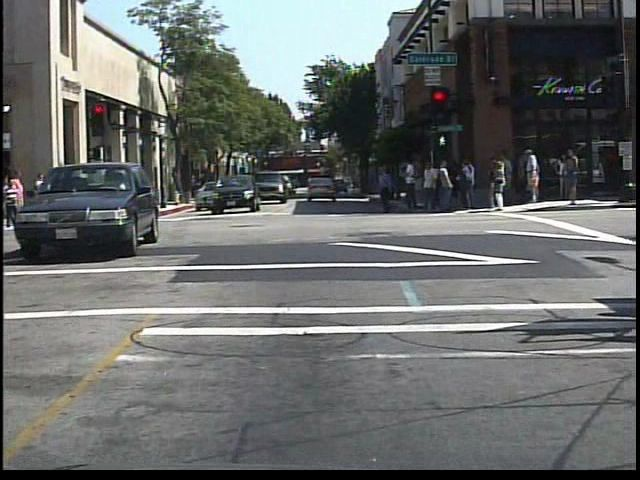person: (520, 147, 545, 206), (36, 173, 59, 232), (4, 177, 25, 224)
